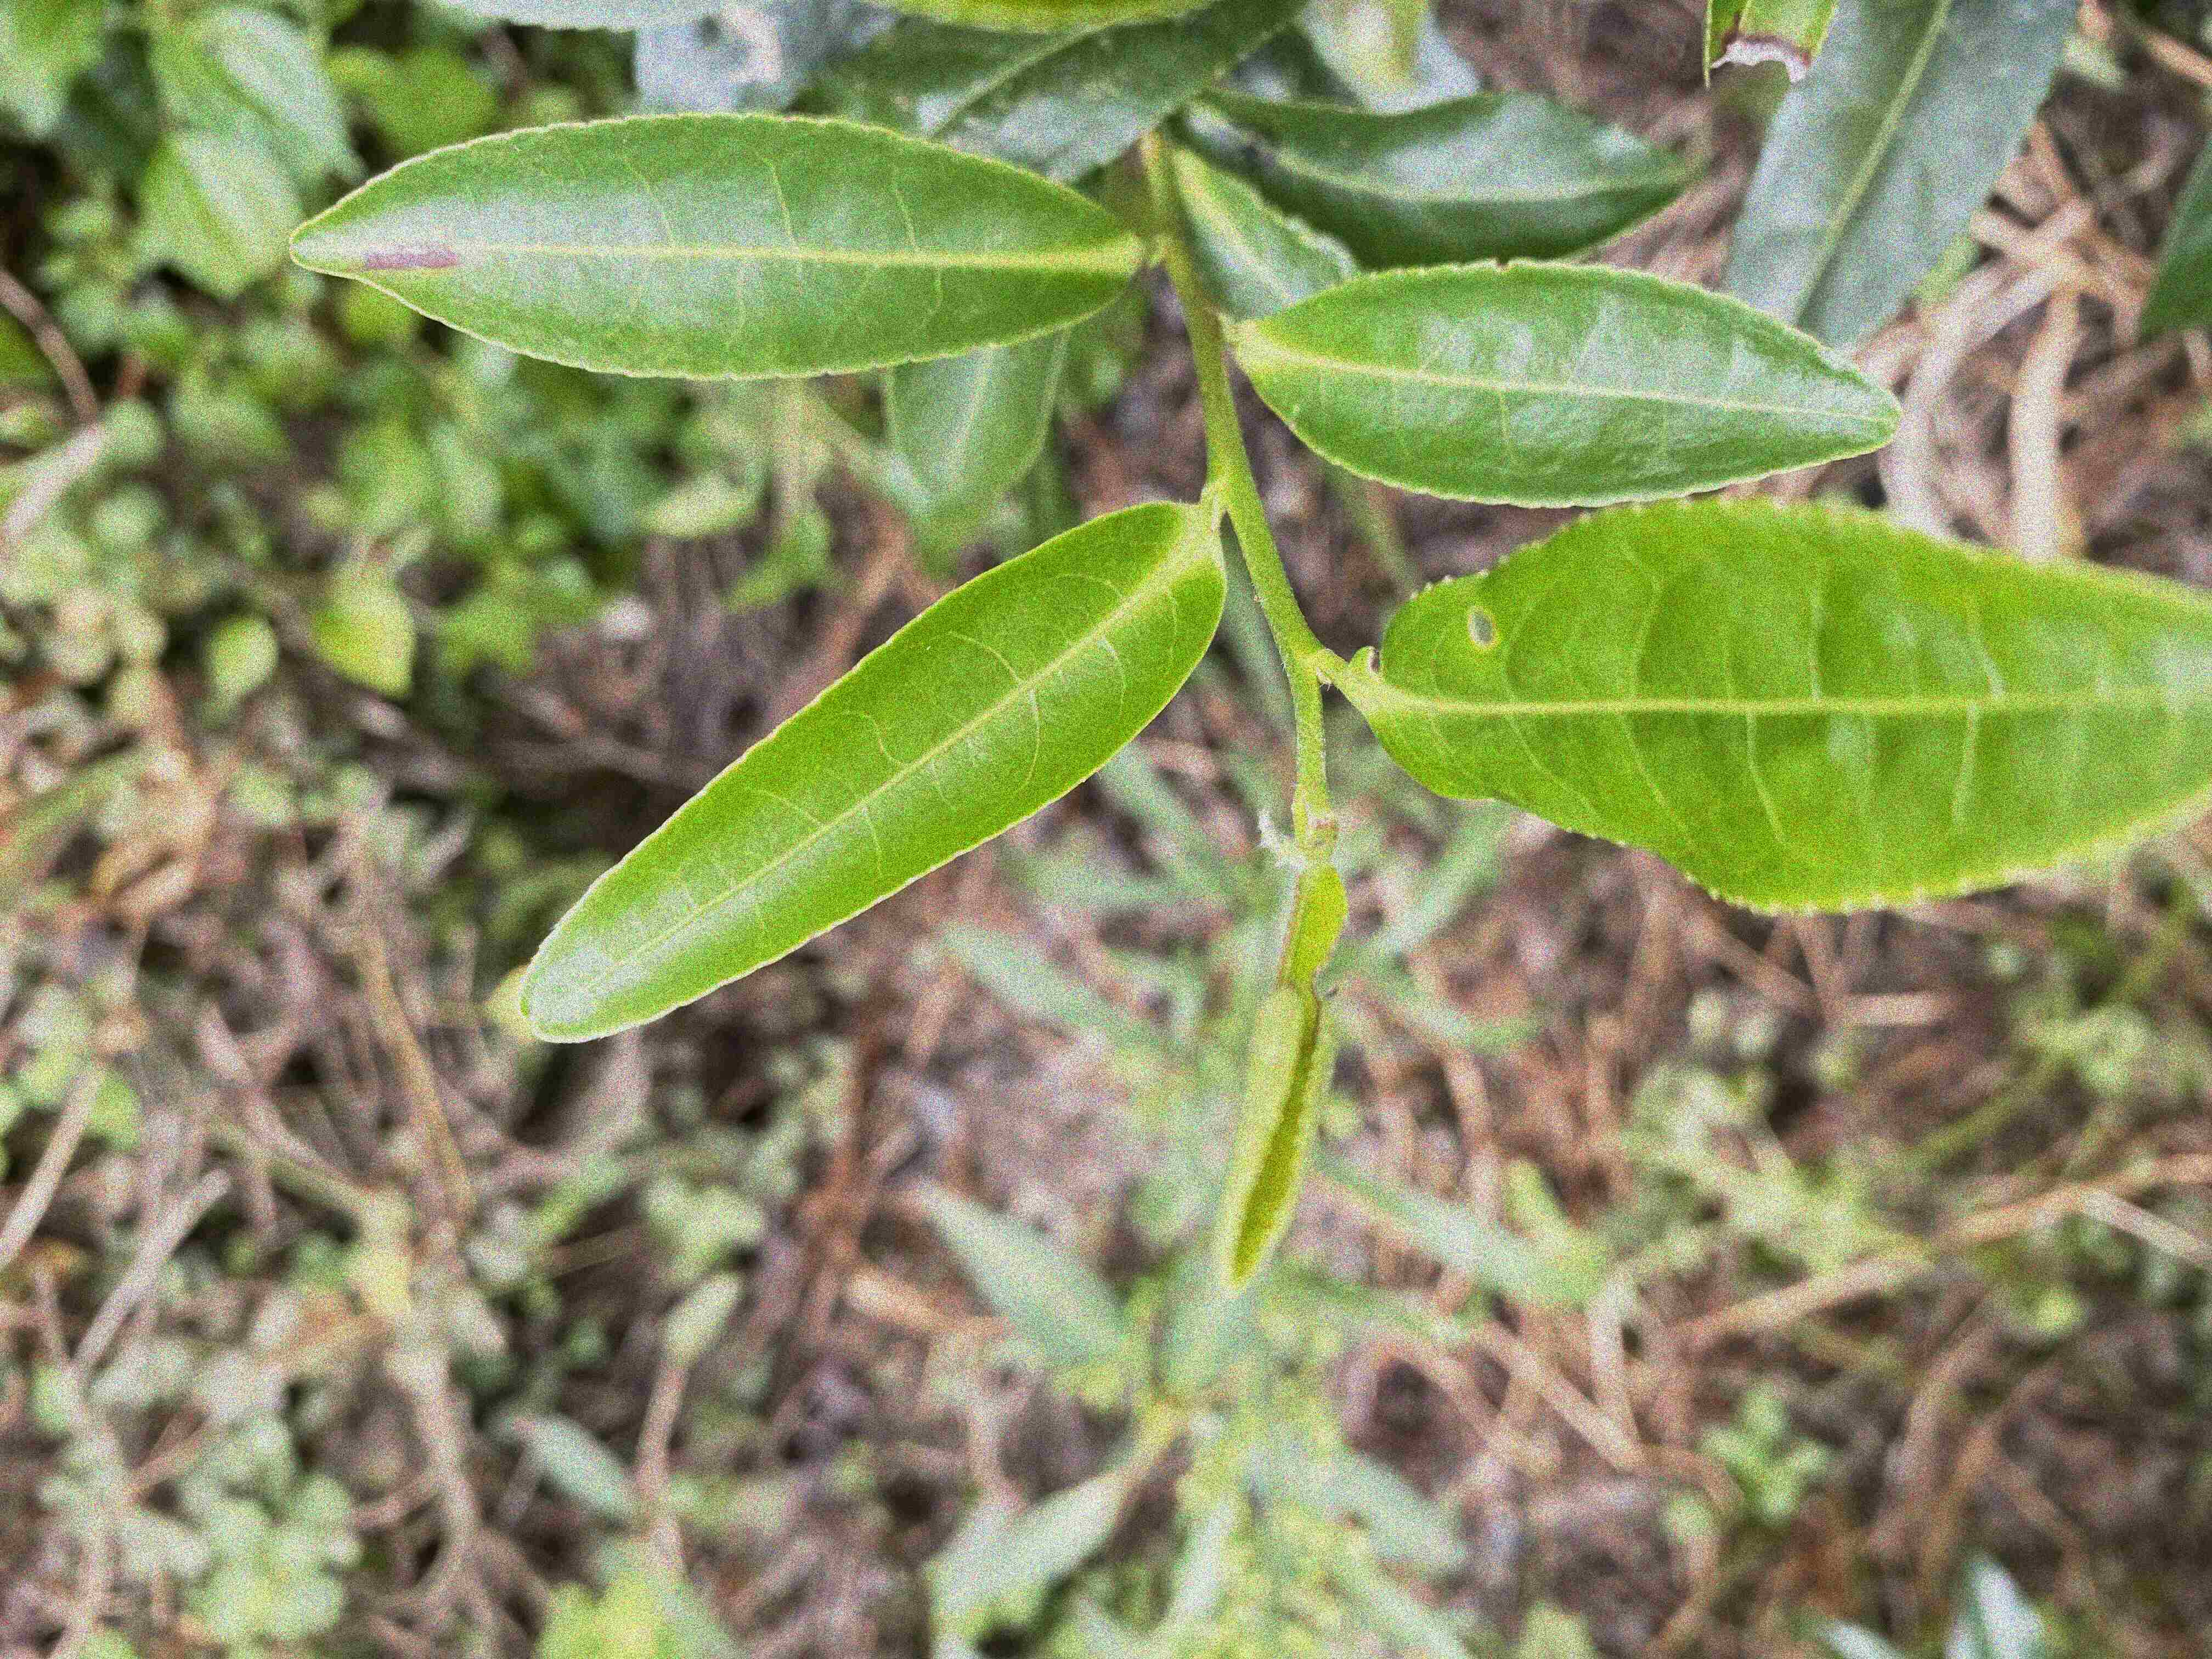chihuo_low: (1353, 495, 2210, 915)
healthy: (519, 498, 1230, 1042), (1245, 254, 1902, 511)
tanju_low: (287, 115, 1141, 380)
